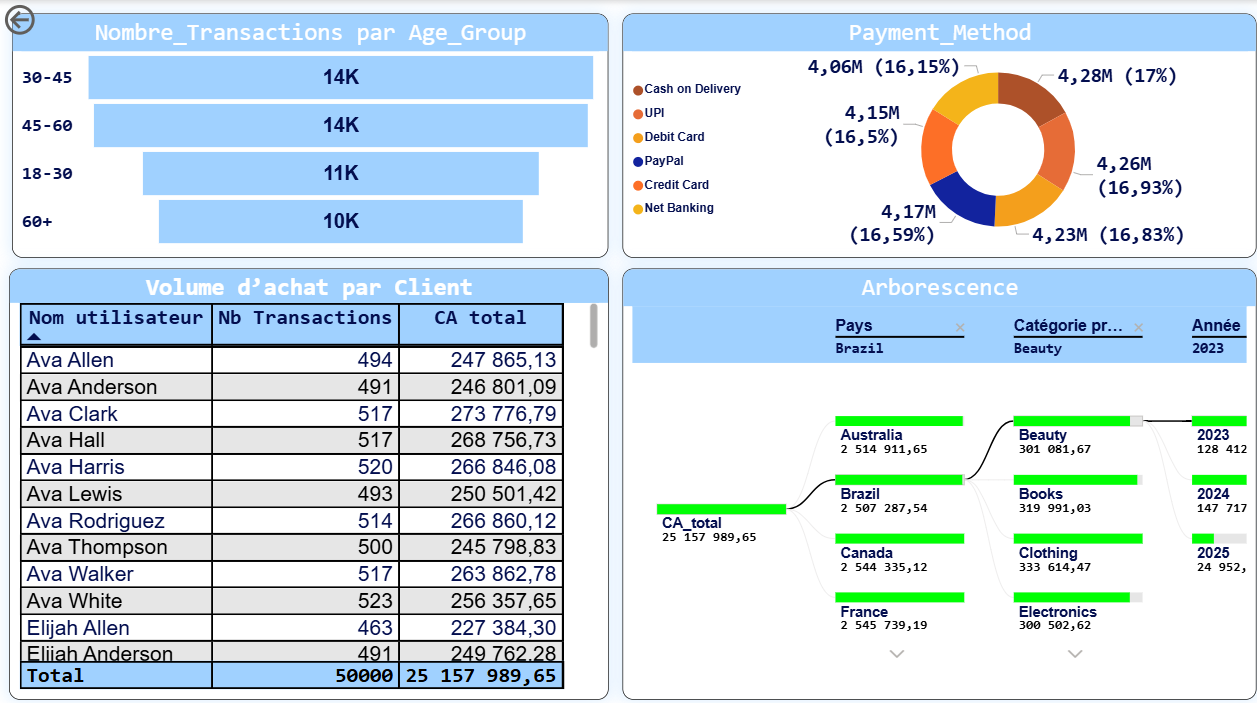

This screenshot's page, from the dashboard's own definition file:
{"tool":"powerbi","page":{"name":"Page 2","canvas":[1280,720],"ordinal":1},"visuals":[{"type":"funnel","fields":{"Category":["transactions_modifier.Age_Group"],"Y":["transactions_modifier.Nombre_Transactions"]},"box":[11.7,13.3,601.7,246.7],"z":0},{"type":"donutChart","title":" Payment_Method","fields":{"Category":["transactions_modifier.Payment_Method"],"Y":["transactions_modifier.CA_total"]},"box":[628.3,13.3,640,246.7],"z":1000},{"type":"tableEx","title":"Volume d’achat par Client","fields":{"Values":["transactions_modifier.User_Name","transactions_modifier.Nombre_Transactions","transactions_modifier.CA_total"]},"box":[8.3,271.7,605,435],"z":2000},{"type":"actionButton","box":[0,0,100,40],"z":3000},{"type":"decompositionTreeVisual","title":"Arborescence","fields":{"Analyze":["transactions_modifier.CA_total"],"ExplainBy":["transactions_modifier.Country","transactions_modifier.Product_Category","CA_month.Month_year.Variation.Hiérarchie de dates.Année","CA_month.Month_year.Variation.Hiérarchie de dates.Mois"]},"box":[628.3,271.7,640,435],"z":4000}]}

Visuals, with their boxes in screenshot pixels (x1, y1, x2, y2), scaled from the page's 1280x720 canvas onto the 1257x703 screenshot:
funnel - transactions_modifier.Age_Group x transactions_modifier.Nombre_Transactions: locate(11, 13, 602, 254)
" Payment_Method" donutChart: locate(617, 13, 1246, 254)
"Volume d’achat par Client" tableEx: locate(8, 265, 602, 690)
actionButton: locate(0, 0, 98, 39)
"Arborescence" decompositionTreeVisual: locate(617, 265, 1246, 690)
